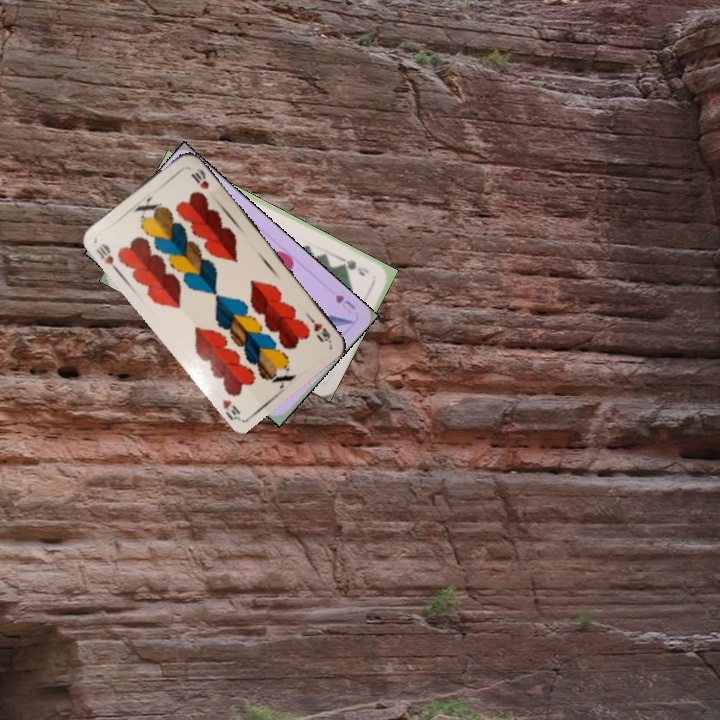G9: (339, 255, 371, 278)
H10: (302, 310, 333, 345), (91, 239, 121, 274)
HU: (331, 291, 358, 316)
